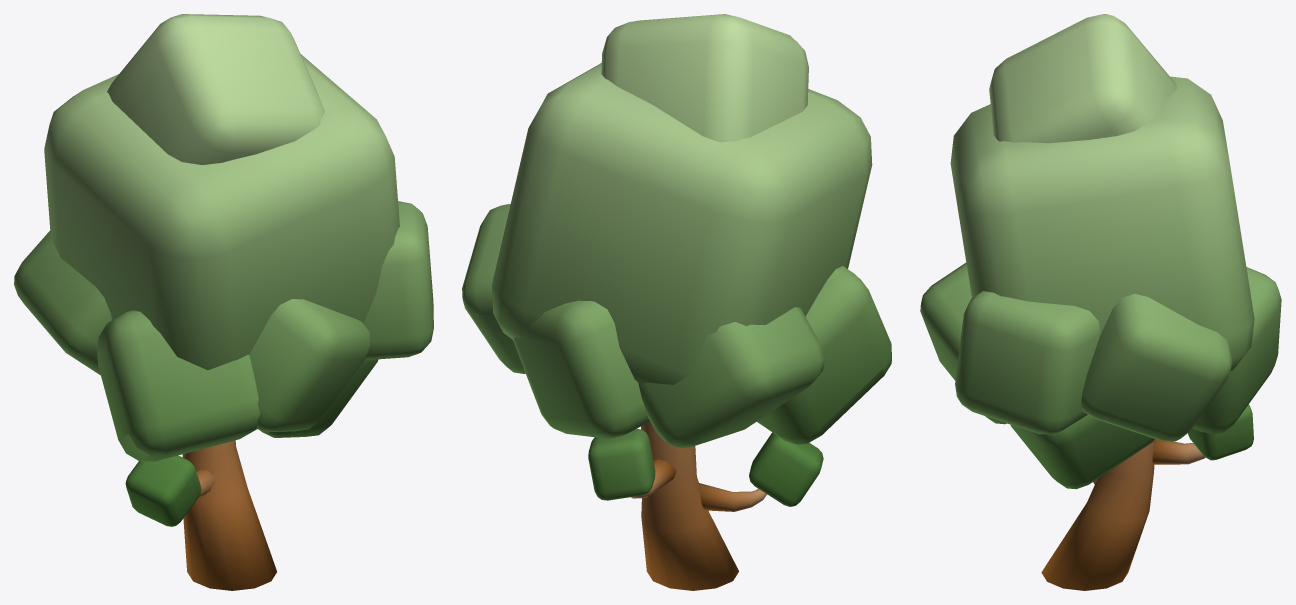
The model's file is Tree01.fbx.
3 renders of one model, left to right at view 1: azimuth 30°, elevation 25°; view 2: azimuth 150°, elevation 25°; view 3: azimuth 270°, elevation 25°, orthographic. The views are drawn at different scales.
Visible parts, largest first — view 1: Tree03Al_LOD0, Tree03A_LOD0; view 2: Tree03Al_LOD0, Tree03A_LOD0; view 3: Tree03Al_LOD0, Tree03A_LOD0.
Part boxes in pixels (x1=…): Tree03Al_LOD0: x1=14, y1=14, x2=433, y2=526; Tree03A_LOD0: x1=182, y1=440, x2=276, y2=590; Tree03Al_LOD0: x1=462, y1=14, x2=891, y2=506; Tree03A_LOD0: x1=631, y1=422, x2=766, y2=590; Tree03Al_LOD0: x1=920, y1=14, x2=1281, y2=489; Tree03A_LOD0: x1=1041, y1=439, x2=1205, y2=590.
Size of what is drawn, in the model's own units: 6.48 by 6.44 by 10.55.
